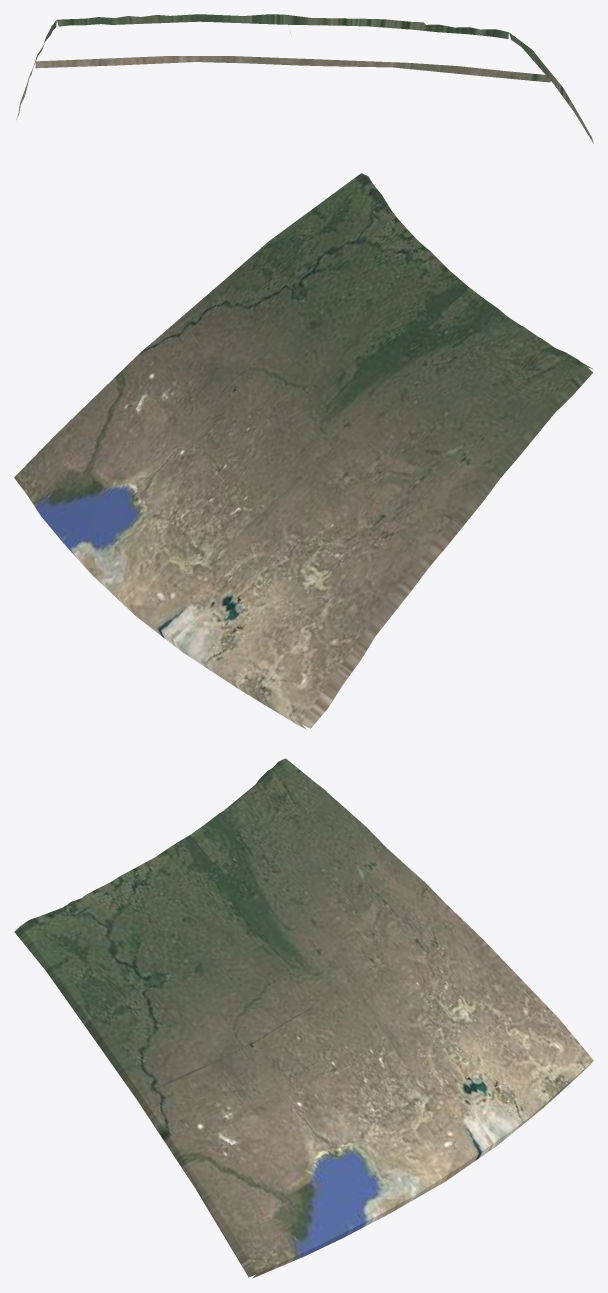
The picture shows the model from 3 angles, top to bottom: view 1: azimuth 30°, elevation 25°; view 2: azimuth 150°, elevation 25°; view 3: azimuth 270°, elevation 25°; orthographic projection. The views are drawn at different scales.
Size of the model in its own units: 1854204 by 827515 by 1685950.
Materials: 1 (1 with a texture image).
